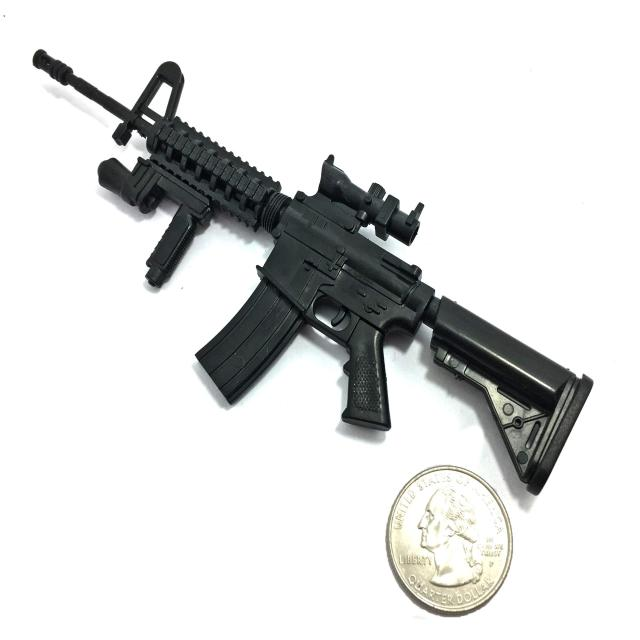Rifle: (31, 51, 593, 499)
